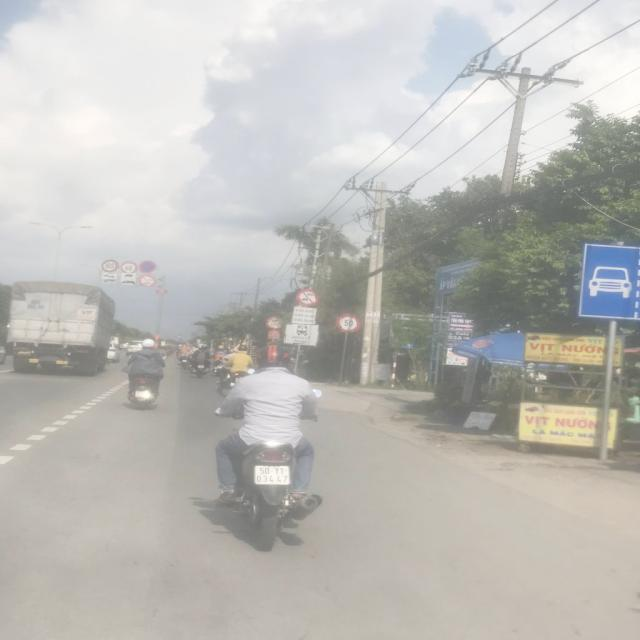107-cam-oto-khach-va-oto-tai: (296, 288, 318, 306)
127-toc-do-toi-da-50: (336, 313, 360, 333)
